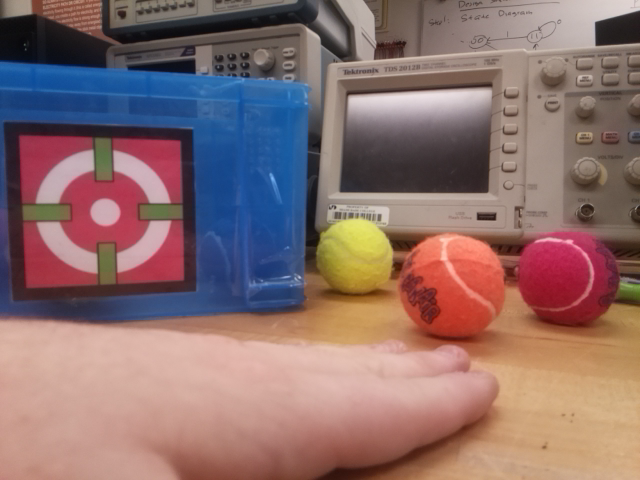drop-bin: (2, 119, 199, 300)
orange-ball: (396, 231, 507, 341)
red-ball: (516, 228, 622, 329)
yellow-ball: (314, 216, 395, 297)
